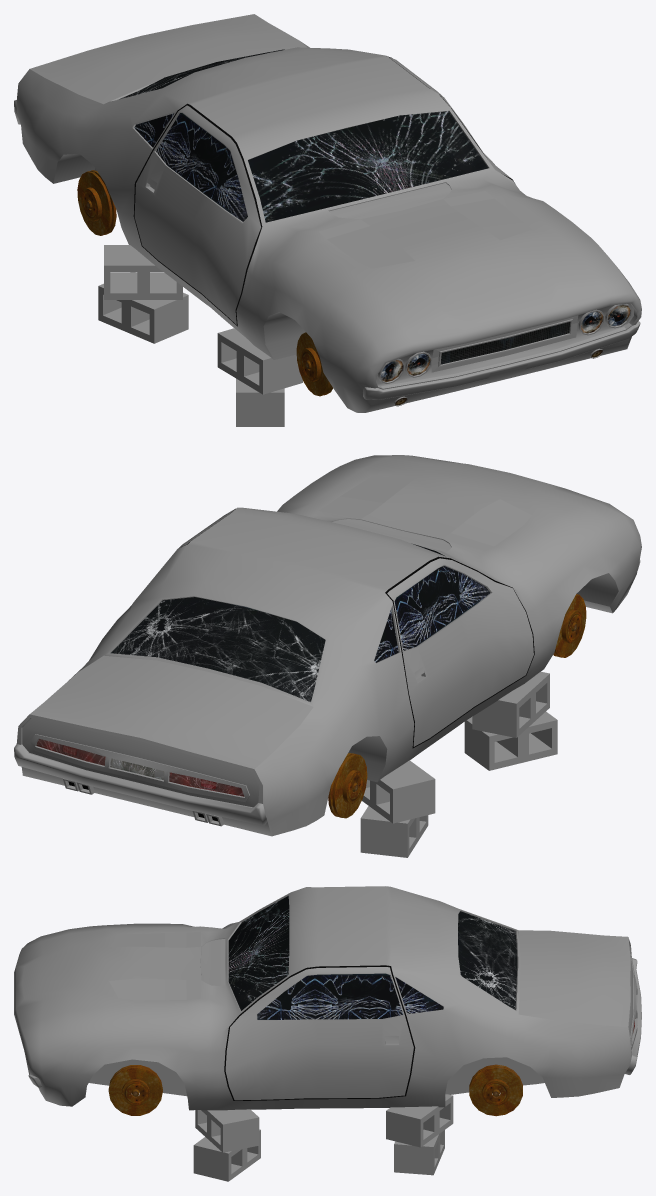
File: Static_Car_On_Cinderblocks.FBX
3 renders of one model, top to bottom at view 1: azimuth 30°, elevation 25°; view 2: azimuth 150°, elevation 25°; view 3: azimuth 270°, elevation 25°, orthographic. The views are drawn at different scales.
Visible parts, largest first — view 1: Static_Car_on_Cinderblocks; view 2: Static_Car_on_Cinderblocks; view 3: Static_Car_on_Cinderblocks.
Part boxes in pixels (box(x1,y1,x2,y2)): Static_Car_on_Cinderblocks: box(14, 14, 641, 426); Static_Car_on_Cinderblocks: box(14, 455, 641, 857); Static_Car_on_Cinderblocks: box(14, 886, 641, 1181).
Bounding box in the file's own units: 152 × 101 × 300.
